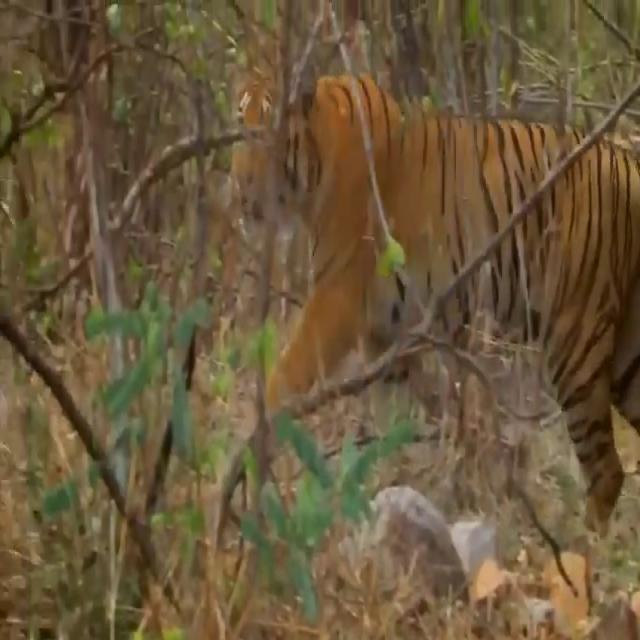tiger: (226, 74, 638, 534)
